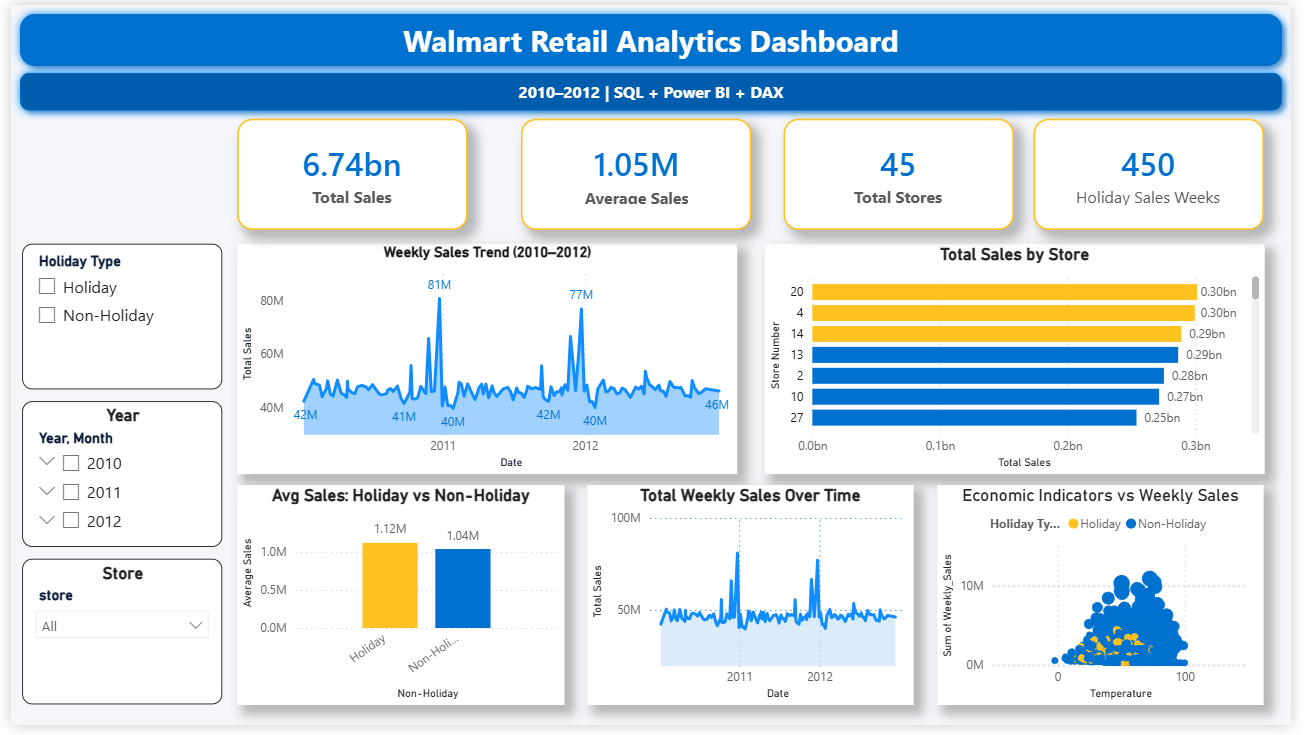

The page's visual inventory and layout, read from the dashboard file:
{"tool":"powerbi","page":{"name":"Page 1","canvas":[1280,720],"ordinal":0},"visuals":[{"type":"lineChart","title":"Weekly Sales Trend (2010–2012)","fields":{"Category":["walmart_sales walmart_data.Date"],"Y":["walmart_sales walmart_data.Total Sales"]},"box":[225.7,238.6,500,230],"z":0},{"type":"clusteredBarChart","title":"Total Sales by Store","fields":{"Category":["walmart_sales walmart_data.ï»¿Store"],"Y":["walmart_sales walmart_data.Total Sales"]},"box":[753.3,238.8,500,230],"z":1000},{"type":"clusteredColumnChart","title":"Avg Sales: Holiday vs Non-Holiday","fields":{"Y":["walmart_sales walmart_data.Average Sales"],"Category":["walmart_sales walmart_data.Holiday Type"]},"box":[225.7,480,327.1,220],"z":2000},{"type":"areaChart","title":"Total Weekly Sales Over Time","fields":{"Category":["walmart_sales walmart_data.Date"],"Y":["walmart_sales walmart_data.Total Sales"]},"box":[576.2,480,326.2,220],"z":3000},{"type":"scatterChart","title":"Economic Indicators vs Weekly Sales","fields":{"Y":["Sum(walmart_sales walmart_data.Weekly_Sales)"],"X":["walmart_sales walmart_data.Temperature"],"Series":["walmart_sales walmart_data.Holiday Type"],"Size":["Sum(walmart_sales walmart_data.CPI)"]},"box":[926.2,480,326.2,220],"z":4000},{"type":"slicer","title":"Year","fields":{"Values":["walmart_sales walmart_data.Date.Variation.Date Hierarchy.Year","walmart_sales walmart_data.Date.Variation.Date Hierarchy.Month"]},"box":[11.4,395.7,200,145.7],"z":5000},{"type":"slicer","title":"Store","fields":{"Values":["walmart_sales walmart_data.ï»¿Store"]},"box":[11.4,554.3,200,145.7],"z":6000},{"type":"slicer","fields":{"Values":["walmart_sales walmart_data.Holiday Type"]},"box":[11.4,238.6,200,145.7],"z":7000},{"type":"cardVisual","fields":{"Data":["walmart_sales walmart_data.Total Sales"]},"box":[225.7,114.3,230,111.4],"z":8000},{"type":"shape","box":[0,0,1280,70],"z":9000},{"type":"shape","box":[0,58.6,1280,55.7],"z":10000},{"type":"cardVisual","fields":{"Data":["walmart_sales walmart_data.Average Sales"]},"box":[510,114.3,230,111.4],"z":11000},{"type":"cardVisual","fields":{"Data":["walmart_sales walmart_data.Holiday Sales Weeks"]},"box":[1022.9,114.3,230,111.4],"z":12000},{"type":"cardVisual","fields":{"Data":["walmart_sales walmart_data.Total Stores"]},"box":[772.9,114.3,230,111.4],"z":13000}]}

Visuals, with their boxes in screenshot pixels (x1, y1, x2, y2), scaled from the page's 1280x720 canvas onto the 1306x735 screenshot:
"Weekly Sales Trend (2010–2012)" lineChart: pyautogui.locateOnScreen(230, 244, 740, 478)
"Total Sales by Store" clusteredBarChart: pyautogui.locateOnScreen(769, 244, 1279, 479)
"Avg Sales: Holiday vs Non-Holiday" clusteredColumnChart: pyautogui.locateOnScreen(230, 490, 564, 715)
"Total Weekly Sales Over Time" areaChart: pyautogui.locateOnScreen(588, 490, 921, 715)
"Economic Indicators vs Weekly Sales" scatterChart: pyautogui.locateOnScreen(945, 490, 1278, 715)
"Year" slicer: pyautogui.locateOnScreen(12, 404, 216, 553)
"Store" slicer: pyautogui.locateOnScreen(12, 566, 216, 715)
slicer - walmart_sales walmart_data.Holiday Type: pyautogui.locateOnScreen(12, 244, 216, 392)
cardVisual - walmart_sales walmart_data.Total Sales: pyautogui.locateOnScreen(230, 117, 465, 230)
shape: pyautogui.locateOnScreen(0, 0, 1305, 71)
shape: pyautogui.locateOnScreen(0, 60, 1305, 117)
cardVisual - walmart_sales walmart_data.Average Sales: pyautogui.locateOnScreen(520, 117, 755, 230)
cardVisual - walmart_sales walmart_data.Holiday Sales Weeks: pyautogui.locateOnScreen(1044, 117, 1278, 230)
cardVisual - walmart_sales walmart_data.Total Stores: pyautogui.locateOnScreen(789, 117, 1023, 230)
